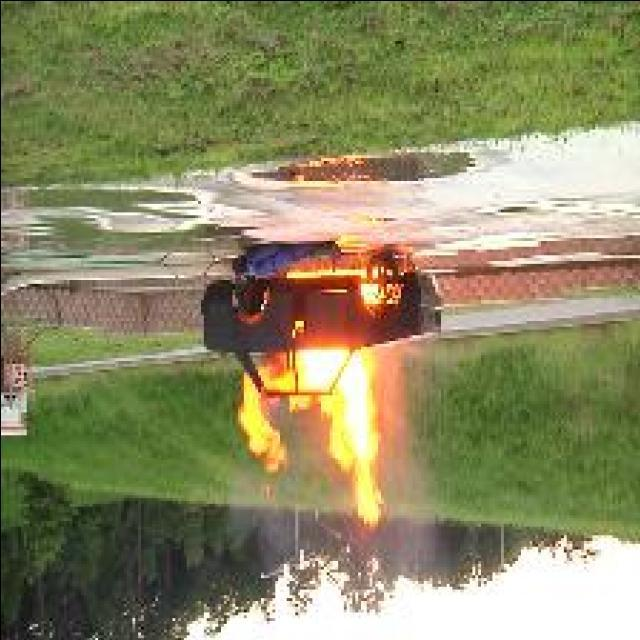Fire: (238, 346, 382, 528)
